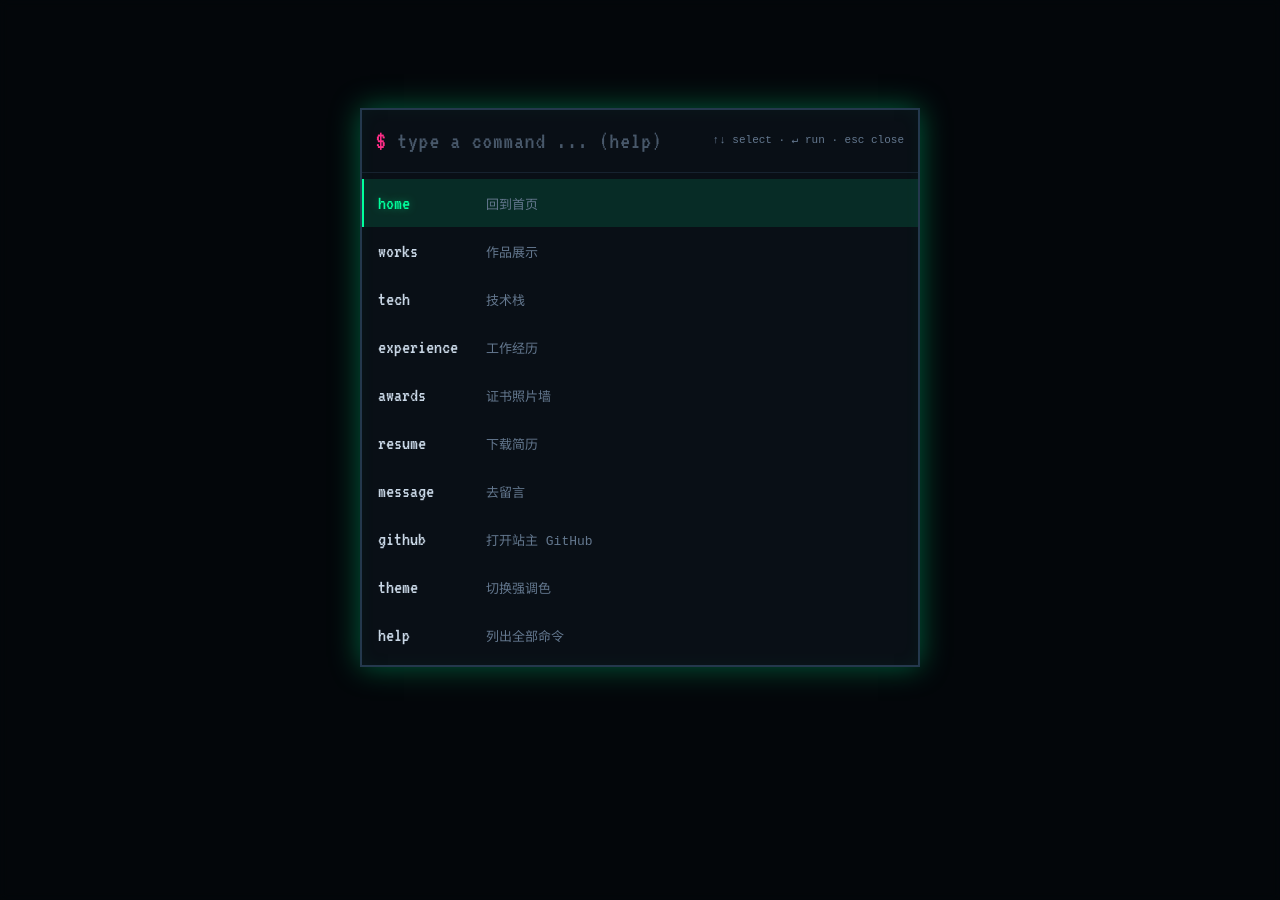
Test case: 命令面板 CommandPalette（Spec 10） › 未知命令返回终端风 command not found，面板保留
The width and height of the screenshot is (1280, 900).
Type "zzz" into the field with placeholder "type a command ... (help)". click: {"x": 549, "y": 141}
box: [396,128,702,154]
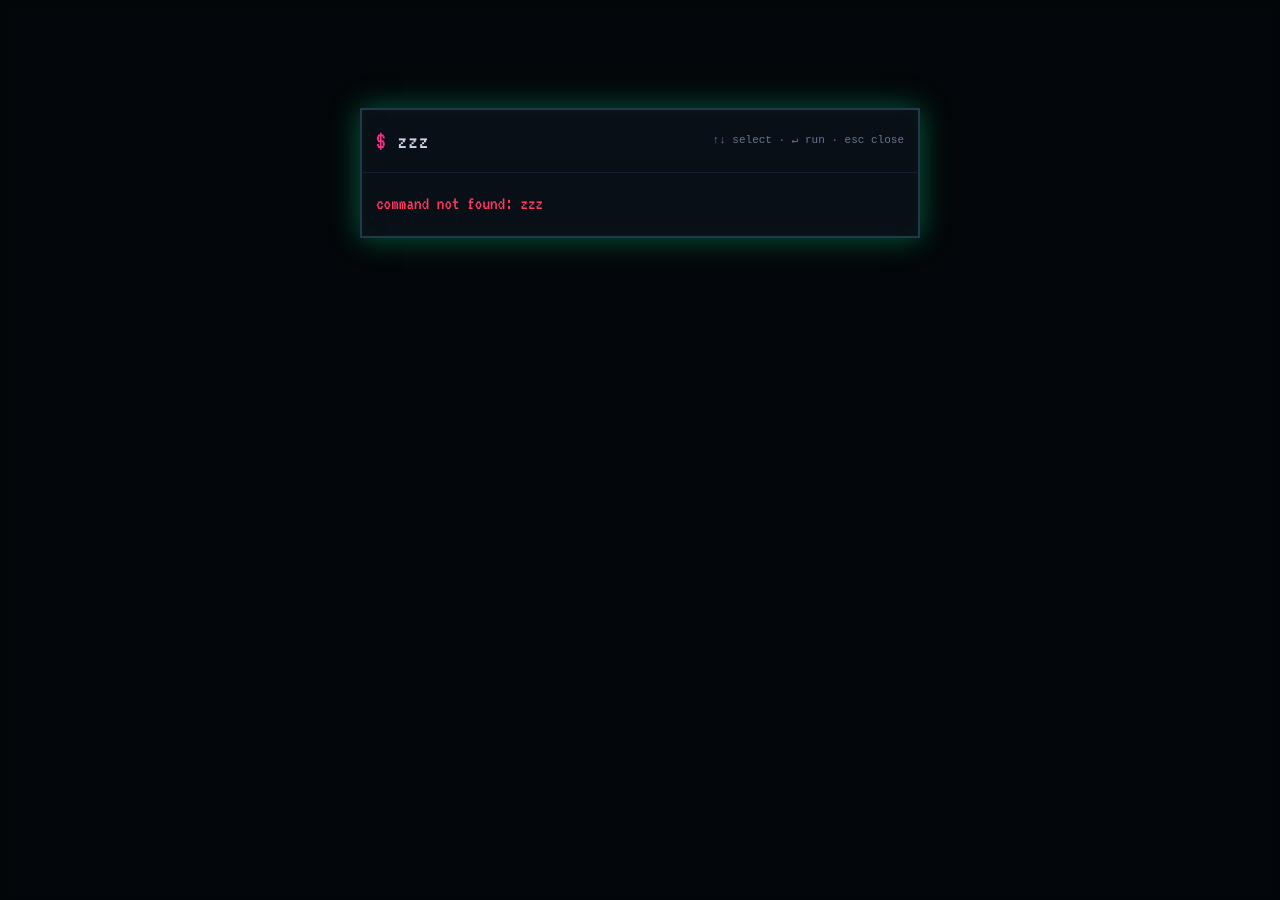
Now the list item "command not found: zzz" is shown, box [376,194,543,213]
Press Enter in the field named "输入命令", box [396,128,702,154]
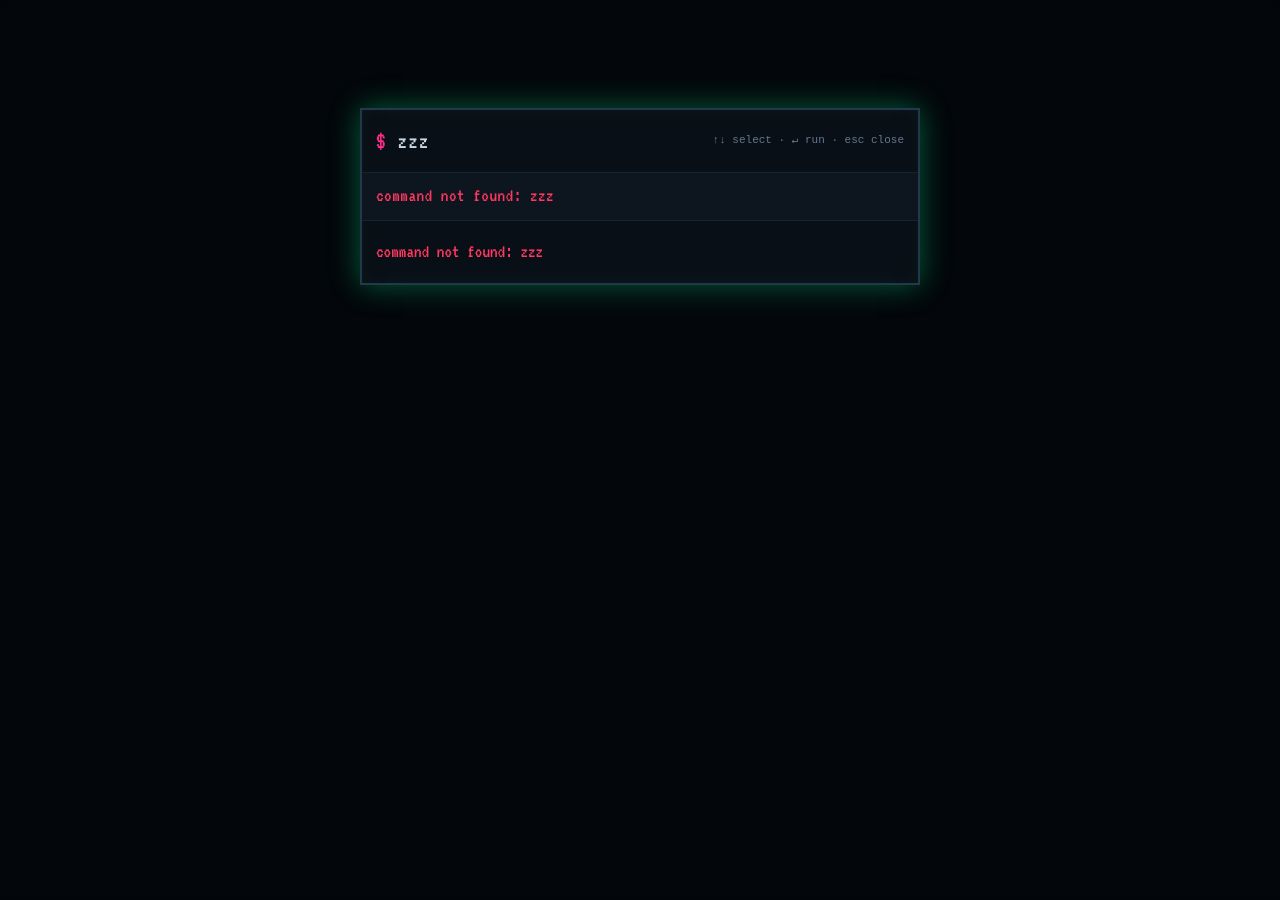
Now the text "command not found: zzz" is shown, box [376,186,554,205]
